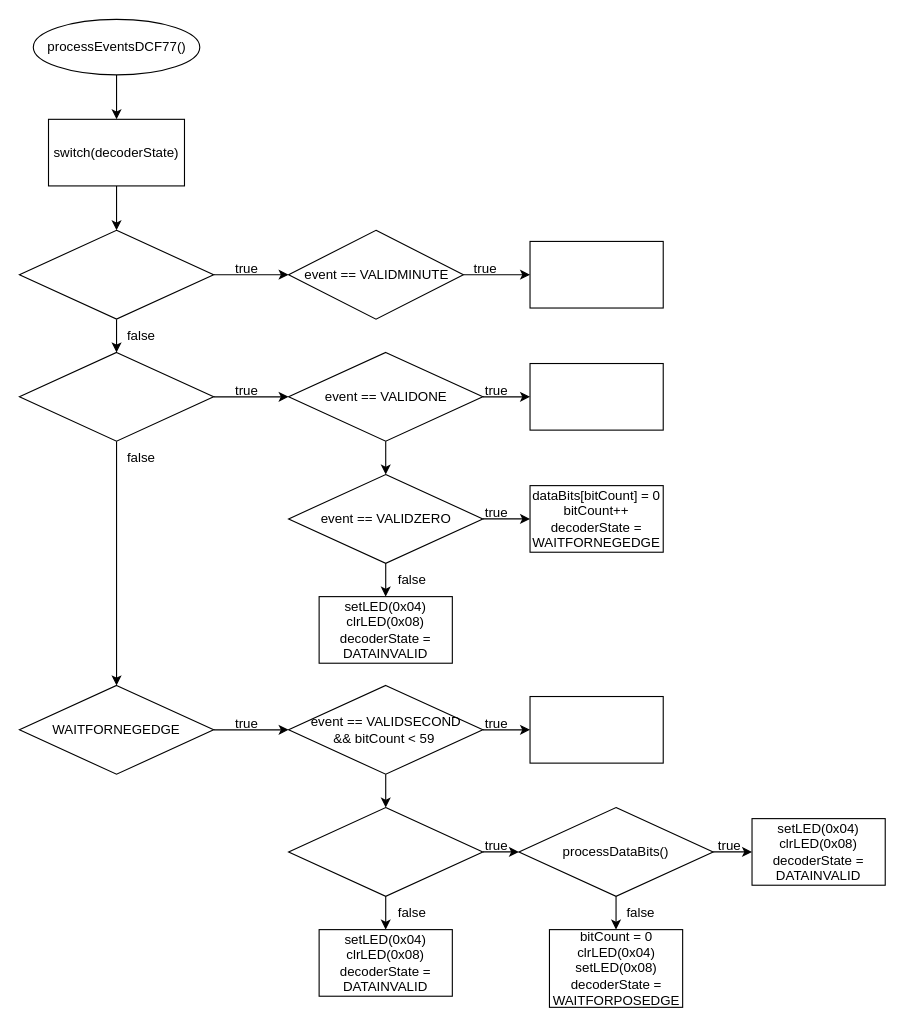
Image size: 905x1028. Some labels were removed from this diagram. The shapes that lost their labels are listed below. From the top down, each one's box as (x1, y1, x2, y2) in pixels, then its label:
(18, 229, 214, 319): DATAINVALID
(529, 240, 663, 308): bitCount = 0 decoderState = WAITFORPOSEDGE
(18, 351, 214, 441): WAITFORPOSEDGE
(529, 362, 663, 430): dataBits[bitCount] = 1 bitCount++ decoderState = WAITFORNEGEDGE
(529, 695, 663, 763): decoderState = WAITFORPOSEDGE
(287, 806, 483, 896): event == VALIDMINUTE && bitCount == 59
